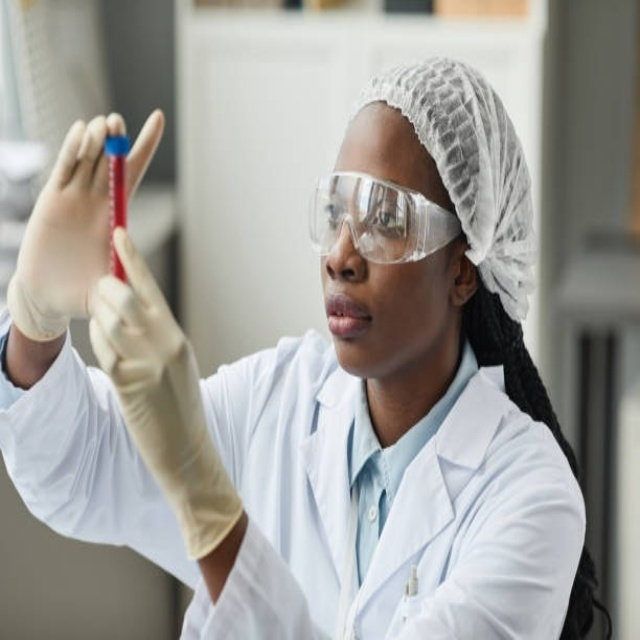Gafas: (307, 171, 462, 264)
Guantes: (86, 231, 244, 562), (9, 104, 162, 334)
Sin_mascara: (322, 276, 387, 358)
